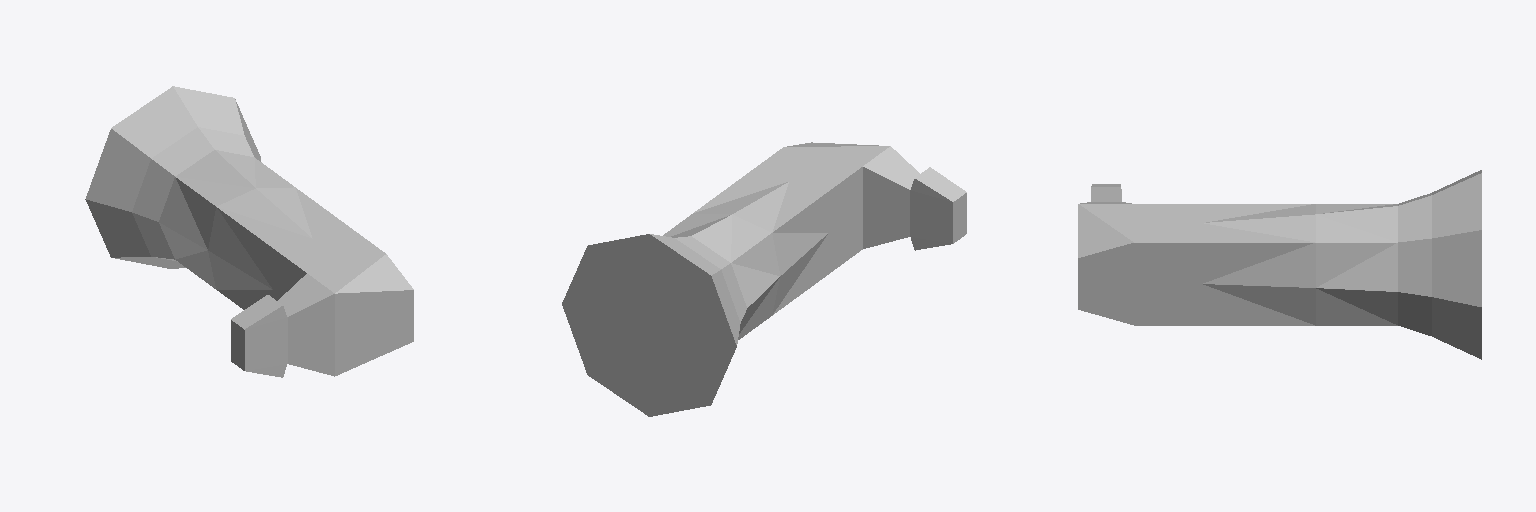
Rendered from PlayerSpawn.obj.
The picture shows the model from 3 angles: view 1: azimuth 30°, elevation 25°; view 2: azimuth 150°, elevation 25°; view 3: azimuth 270°, elevation 25°; orthographic projection.
Parts seen in each view (by area): view 1: Cylinder; view 2: Cylinder; view 3: Cylinder.
Boxes of the visible parts, x1=… form: Cylinder: x1=85, y1=86, x2=413, y2=377; Cylinder: x1=562, y1=142, x2=966, y2=416; Cylinder: x1=1078, y1=170, x2=1481, y2=359.
Bounding box in the file's own units: 2 × 1.67 × 3.32.